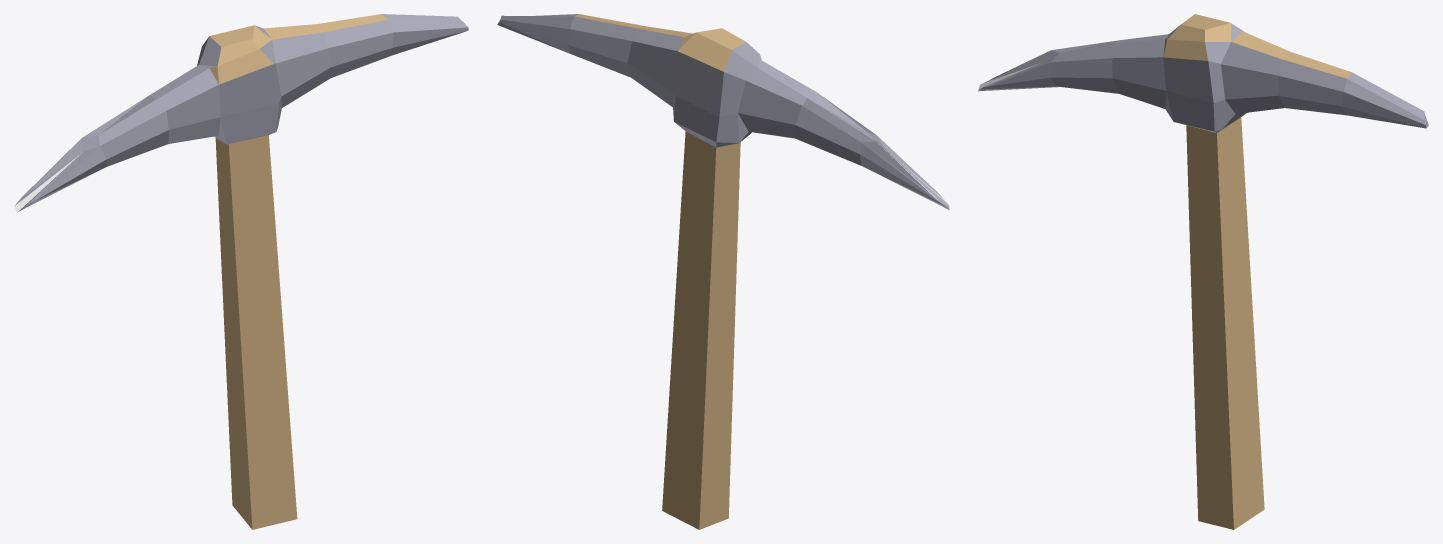
Rendered from pickaxe.fbx.
3 renders of one model, left to right at view 1: azimuth 30°, elevation 25°; view 2: azimuth 150°, elevation 25°; view 3: azimuth 330°, elevation 25°, orthographic.
Parts seen in each view (by area): view 1: pickaxe; view 2: pickaxe; view 3: pickaxe.
Boxes of the visible parts, box(x1,y1,x2,y2) form: pickaxe: box(14, 14, 468, 529); pickaxe: box(497, 14, 949, 529); pickaxe: box(978, 14, 1428, 529).
Bounding box in the file's own units: 28.99 × 30.15 × 3.96.
